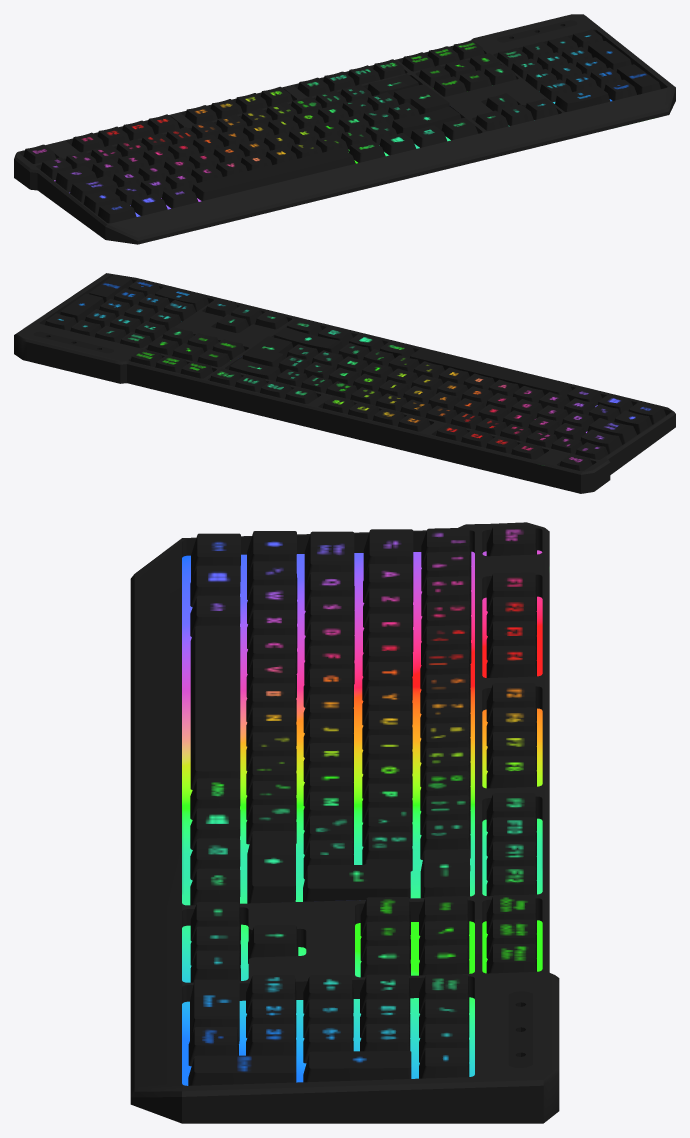
File: edit.gltf
3 views of the same model, one above another, from view 1: azimuth 30°, elevation 25°; view 2: azimuth 150°, elevation 25°; view 3: azimuth 270°, elevation 25° (orthographic). The views are drawn at different scales.
Parts seen in each view (by area): view 1: Keyboard, Keyboard_Key_0.122, Keyboard_Key_0.120, Keyboard_Key_0.360, Keyboard_Key_0.287, Keyboard_Key_0.328, Keyboard_Key_0.326, Keyboard_Key_0.298, Keyboard_Key_0.357, Keyboard_Key_0.359, Keyboard_Key_0.247, Keyboard_Key_0.256 (+1 smaller); view 2: Keyboard, Keyboard_Key_0.122, Keyboard_Key_0.360, Keyboard_Key_0.287, Keyboard_Key_0.120, Keyboard_Key_0.326, Keyboard_Key_0.328, Keyboard_Key_0.359, Keyboard_Key_0.357, Keyboard_Key_0.298, Keyboard_Key_0.247, Keyboard_Key_0.300; view 3: Keyboard, Keyboard_Key_0.122, Keyboard_Key_0.360, Keyboard_Key_0.287, Keyboard_Key_0.359, Keyboard_Key_0.326, Keyboard_Key_0.357, Keyboard_Key_0.328, Keyboard_Key_0.298, Keyboard_Key_0.247, Keyboard_Key_0.243, Keyboard_Key_0.300 (+11 smaller).
Part boxes in pixels (<box>): Keyboard: <box>14,14,675,244</box>; Keyboard_Key_0.122: <box>193,148,352,191</box>; Keyboard_Key_0.120: <box>192,156,355,200</box>; Keyboard_Key_0.360: <box>394,84,448,108</box>; Keyboard_Key_0.287: <box>393,106,459,127</box>; Keyboard_Key_0.328: <box>497,20,577,42</box>; Keyboard_Key_0.326: <box>557,85,607,103</box>; Keyboard_Key_0.298: <box>369,74,417,91</box>; Keyboard_Key_0.357: <box>588,41,630,63</box>; Keyboard_Key_0.359: <box>617,64,658,86</box>; Keyboard_Key_0.247: <box>73,175,116,191</box>; Keyboard_Key_0.256: <box>98,207,136,223</box>; Keyboard: <box>14,273,675,493</box>; Keyboard_Key_0.122: <box>411,348,569,392</box>; Keyboard_Key_0.360: <box>243,336,291,361</box>; Keyboard_Key_0.287: <box>275,327,341,348</box>; Keyboard_Key_0.120: <box>410,356,572,396</box>; Keyboard_Key_0.326: <box>155,285,205,302</box>; Keyboard_Key_0.328: <box>33,331,113,353</box>; Keyboard_Key_0.359: <box>90,274,131,296</box>; Keyboard_Key_0.357: <box>61,293,102,315</box>; Keyboard_Key_0.298: <box>230,358,278,375</box>; Keyboard_Key_0.247: <box>589,418,633,433</box>; Keyboard_Key_0.300: <box>243,342,293,367</box>; Keyboard: <box>130,522,559,1123</box>; Keyboard_Key_0.122: <box>195,625,240,771</box>; Keyboard_Key_0.360: <box>307,859,410,888</box>; Keyboard_Key_0.287: <box>252,831,295,886</box>; Keyboard_Key_0.359: <box>194,1055,296,1072</box>; Keyboard_Key_0.326: <box>194,979,239,1018</box>; Keyboard_Key_0.357: <box>309,1051,411,1068</box>; Keyboard_Key_0.328: <box>508,991,532,1067</box>; Keyboard_Key_0.298: <box>424,849,469,887</box>; Keyboard_Key_0.247: <box>310,531,354,564</box>; Keyboard_Key_0.243: <box>303,1054,411,1082</box>; Keyboard_Key_0.300: <box>303,861,410,901</box>.
Size of the model in its own units: 1.18 by 0.0479 by 0.379.
2 materials, 2 textured.
